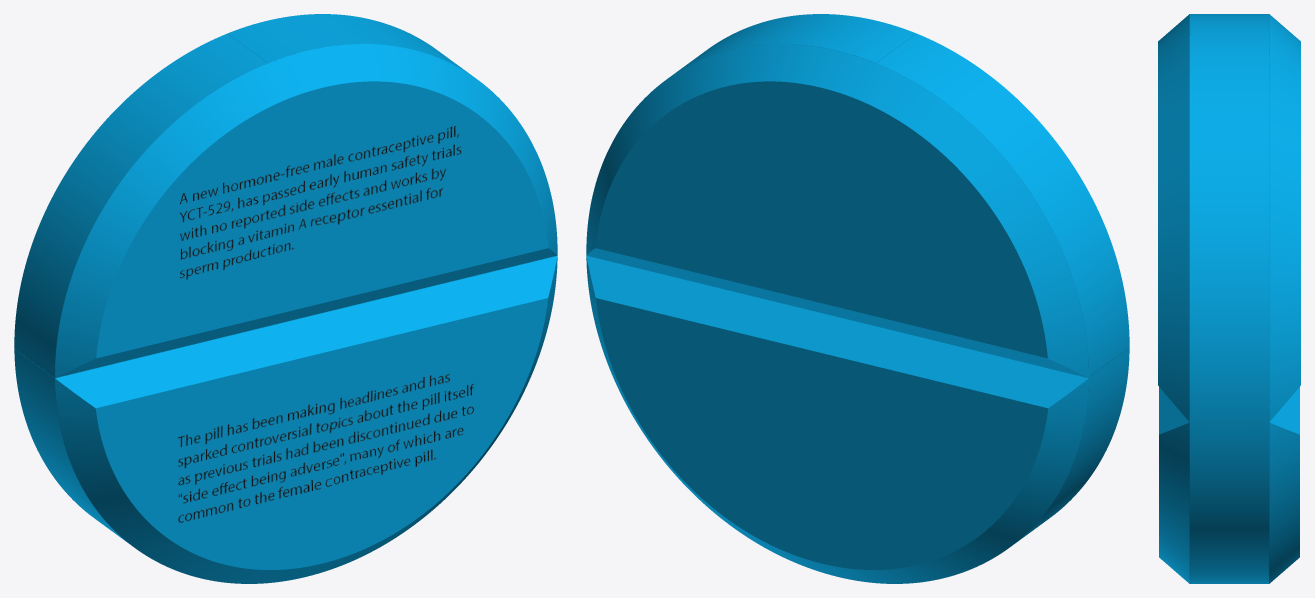
The model's file is bluetext.gltf.
3 views of the same model, side by side, from view 1: azimuth 30°, elevation 25°; view 2: azimuth 150°, elevation 25°; view 3: azimuth 270°, elevation 25° (orthographic).
Bounding box in the file's own units: 0.3167 × 0.3167 × 0.0793.
2 materials, 2 textured.
